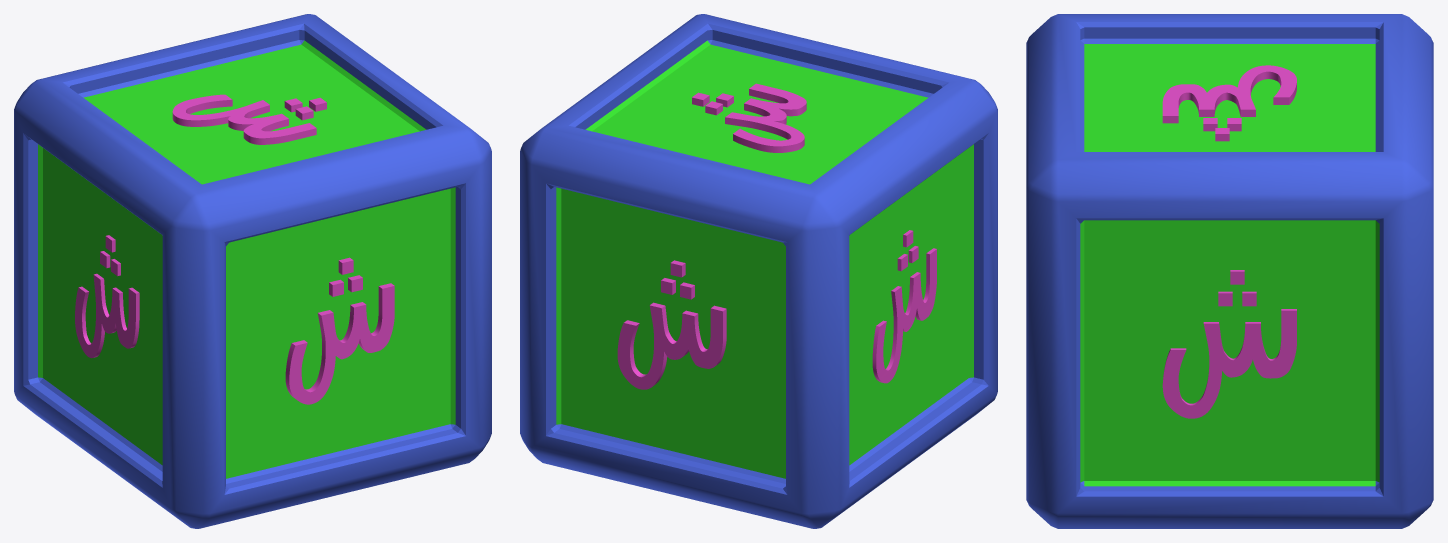
The picture shows the model from 3 angles, left to right: view 1: azimuth 30°, elevation 25°; view 2: azimuth 150°, elevation 25°; view 3: azimuth 270°, elevation 25°; orthographic projection. The views are drawn at different scales.
Parts seen in each view (by area): view 1: Text.003; view 2: Text.003; view 3: Text.003.
Boxes of the visible parts, x1,y1,x2,y2 form: Text.003: [14, 14, 491, 528]; Text.003: [520, 14, 997, 528]; Text.003: [1026, 14, 1433, 528].
Bounding box in the file's own units: 15 × 15 × 15.
